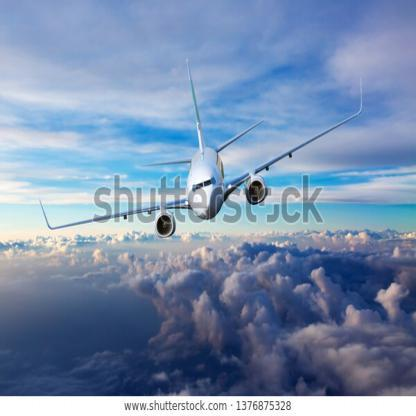CIV_Plane: (34, 53, 366, 241)
